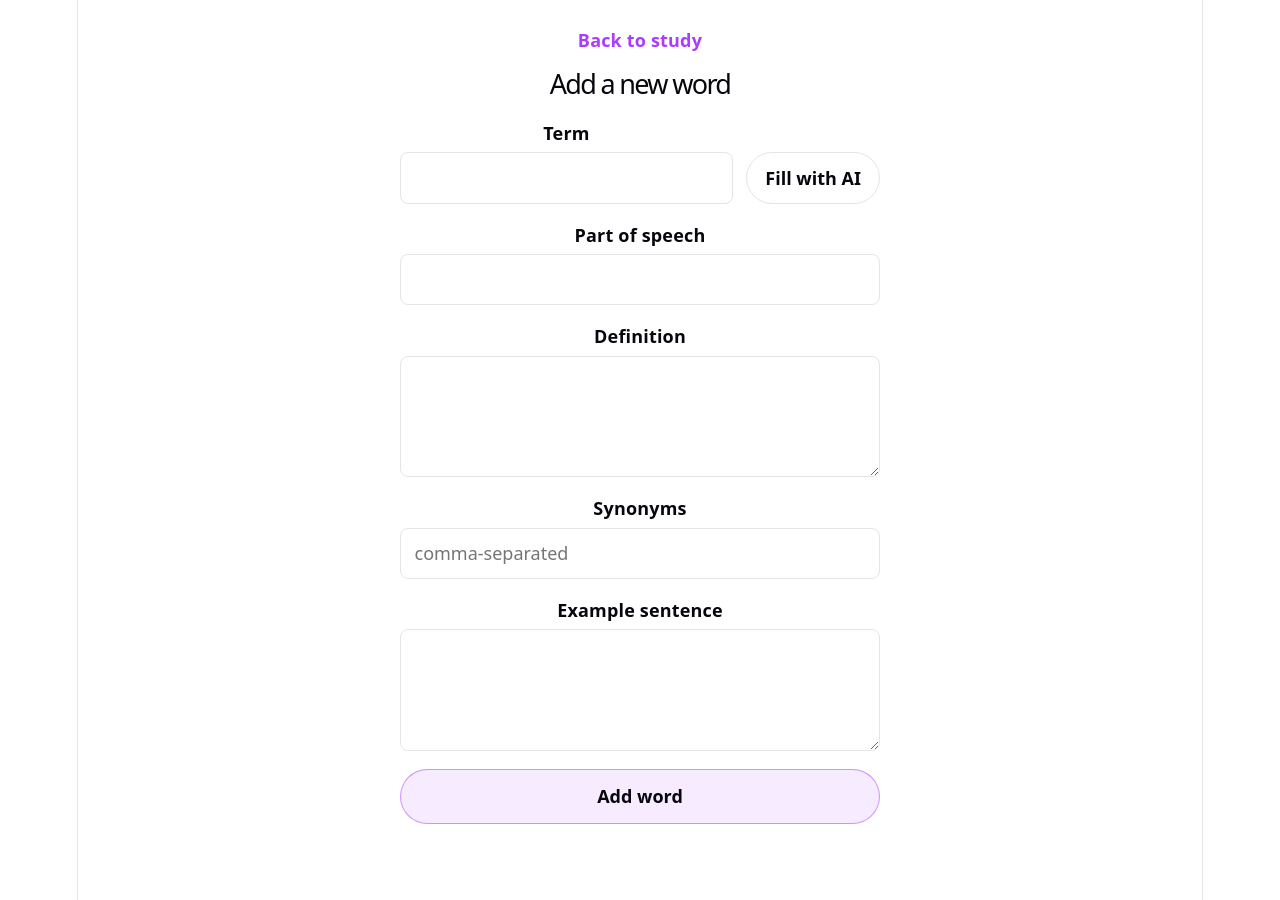
Test: AddWordsPage › creates a word, shows success, and clears the form
Type "ephemeral" into the field labelled "Term" at (566, 178), box [400,152,733,204]
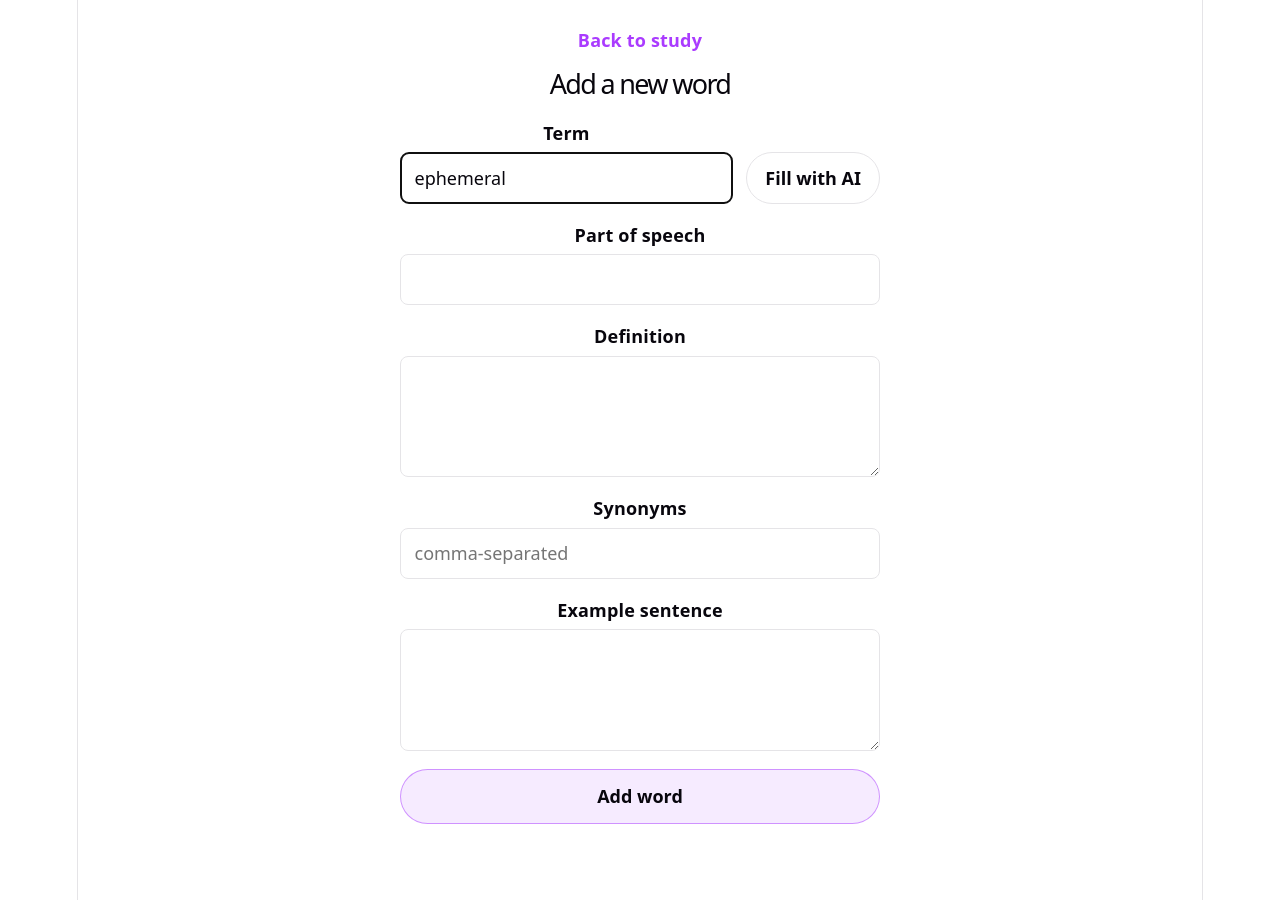
Type "adjective" into the field labelled "Part of speech" at (640, 280), box [400,254,880,305]
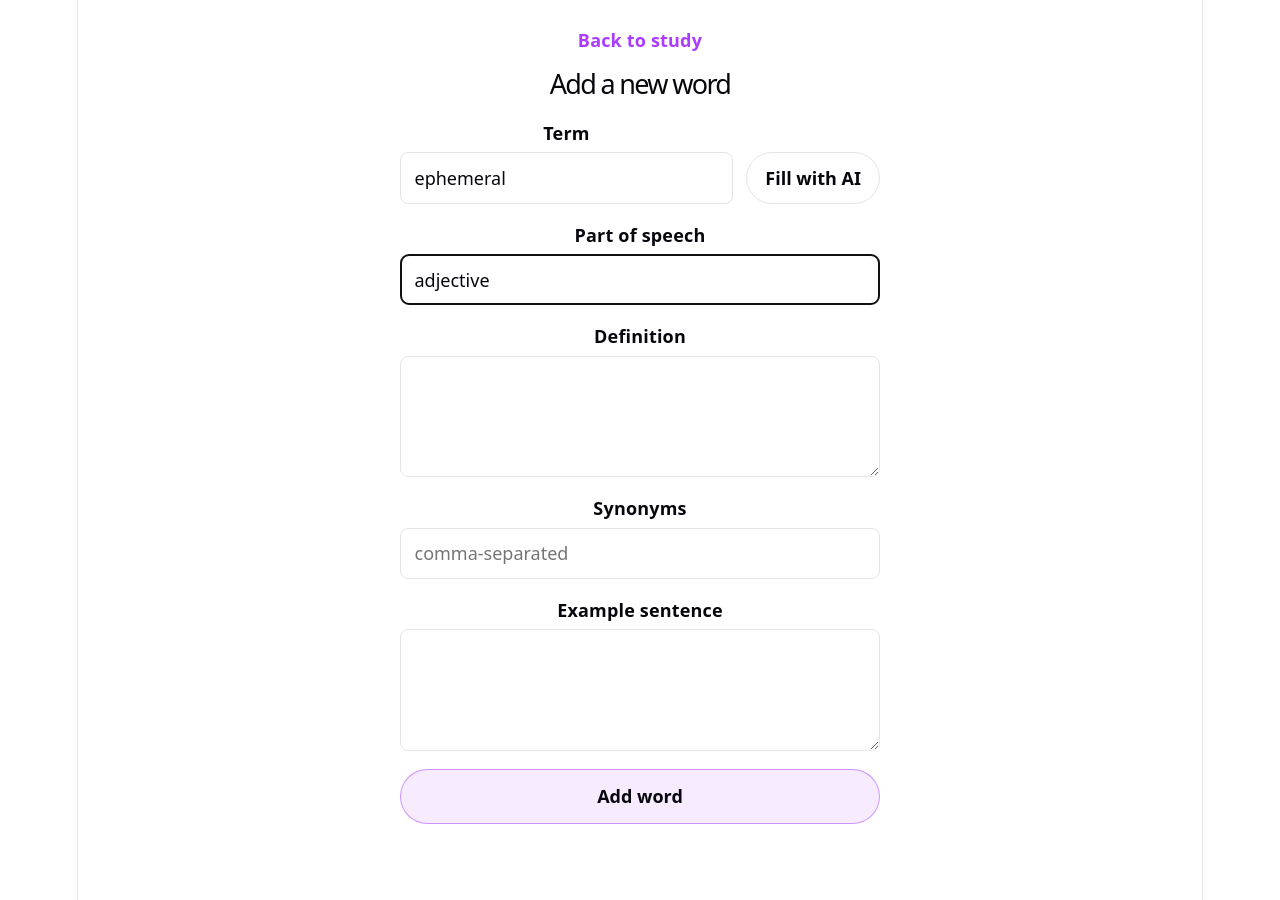
Type "lasting a very short time" into the text box labelled "Definition" at (640, 416), box [400,356,880,477]
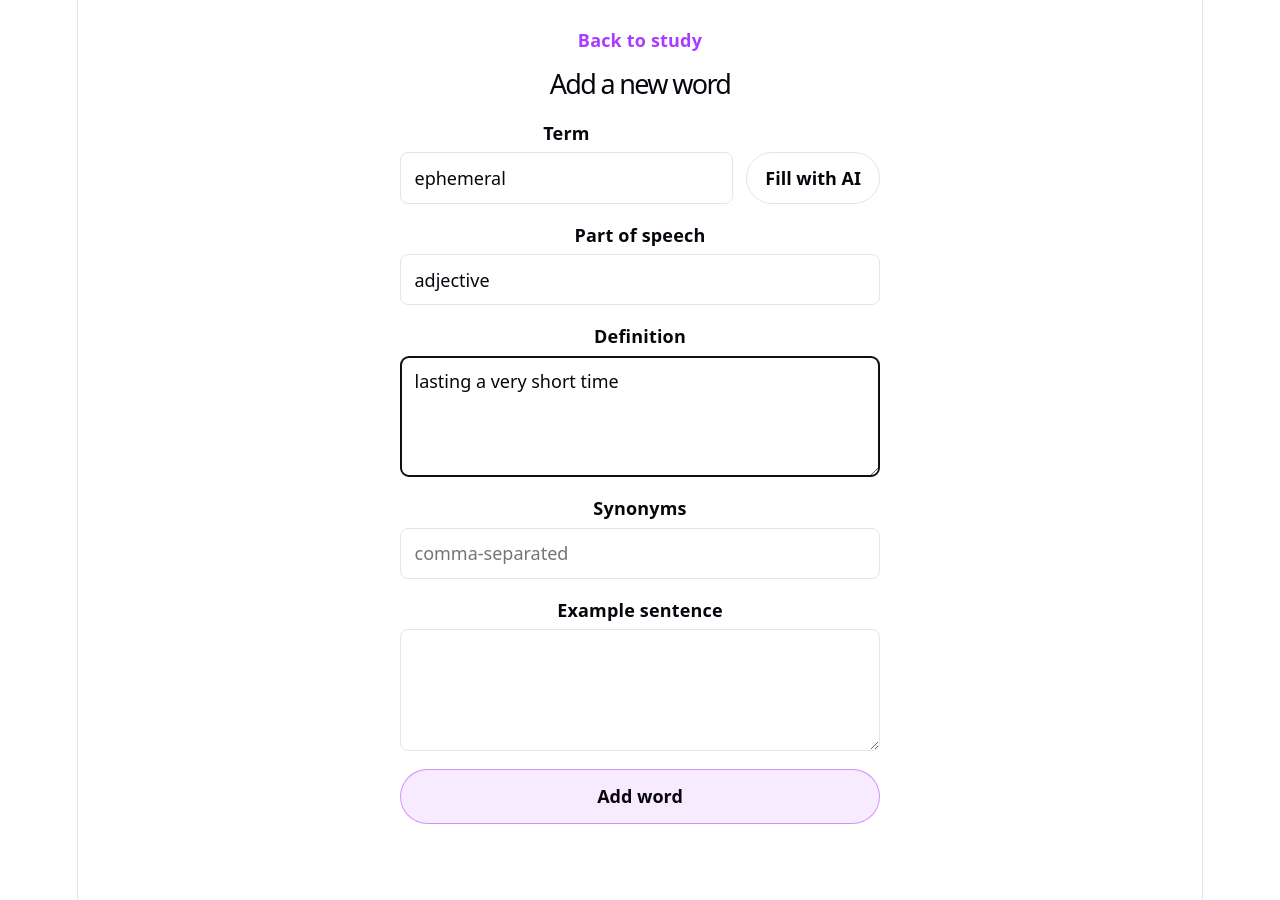
Type "fleeting, transient" into the field labelled "Synonyms" at (640, 553), box [400,528,880,579]
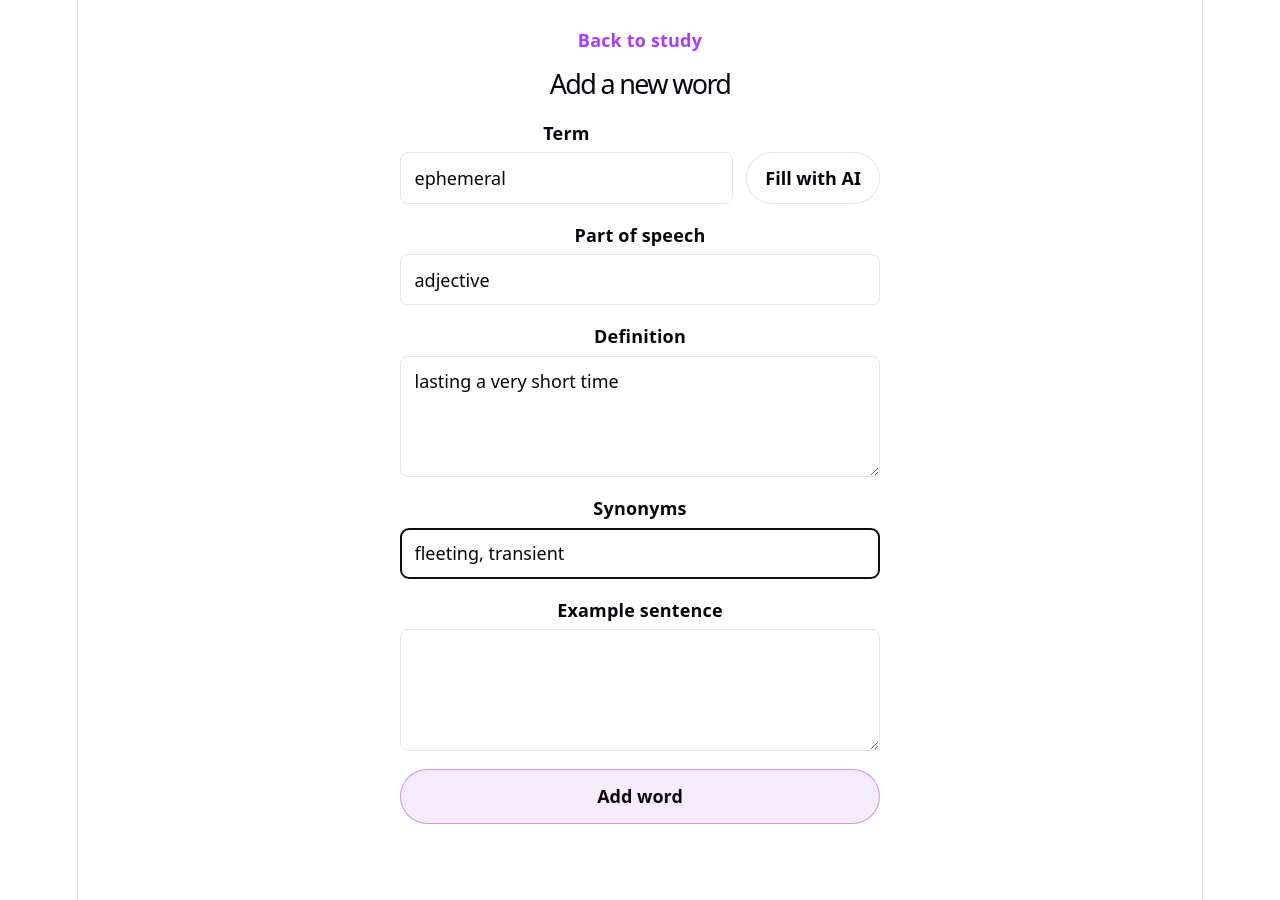
Type "The ephemeral beauty of cherry blossoms draws crowds each spring." into the text box labelled "Example sentence" at (640, 690), box [400,629,880,751]
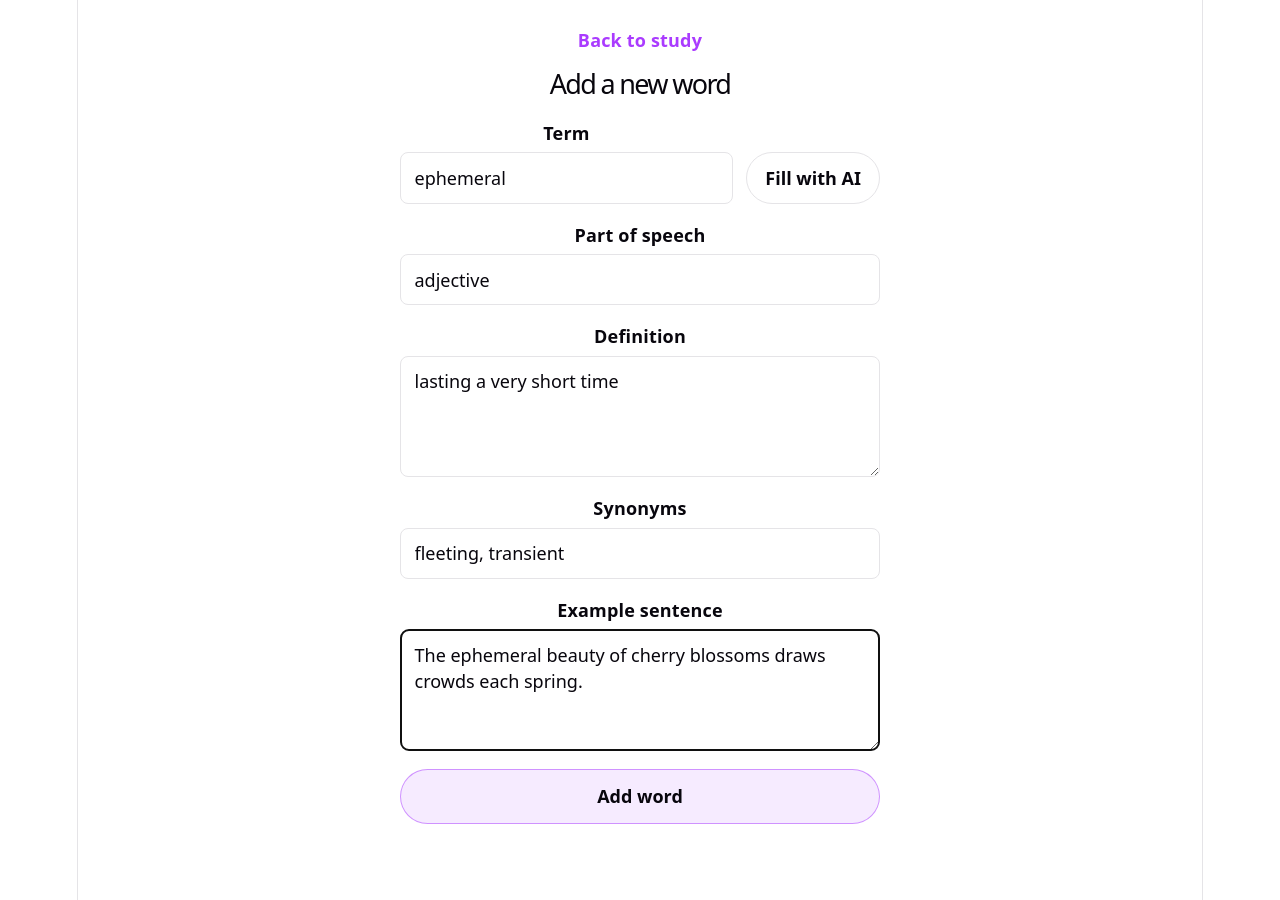
Click the button "Add word" at (640, 796), box [400,769,880,824]
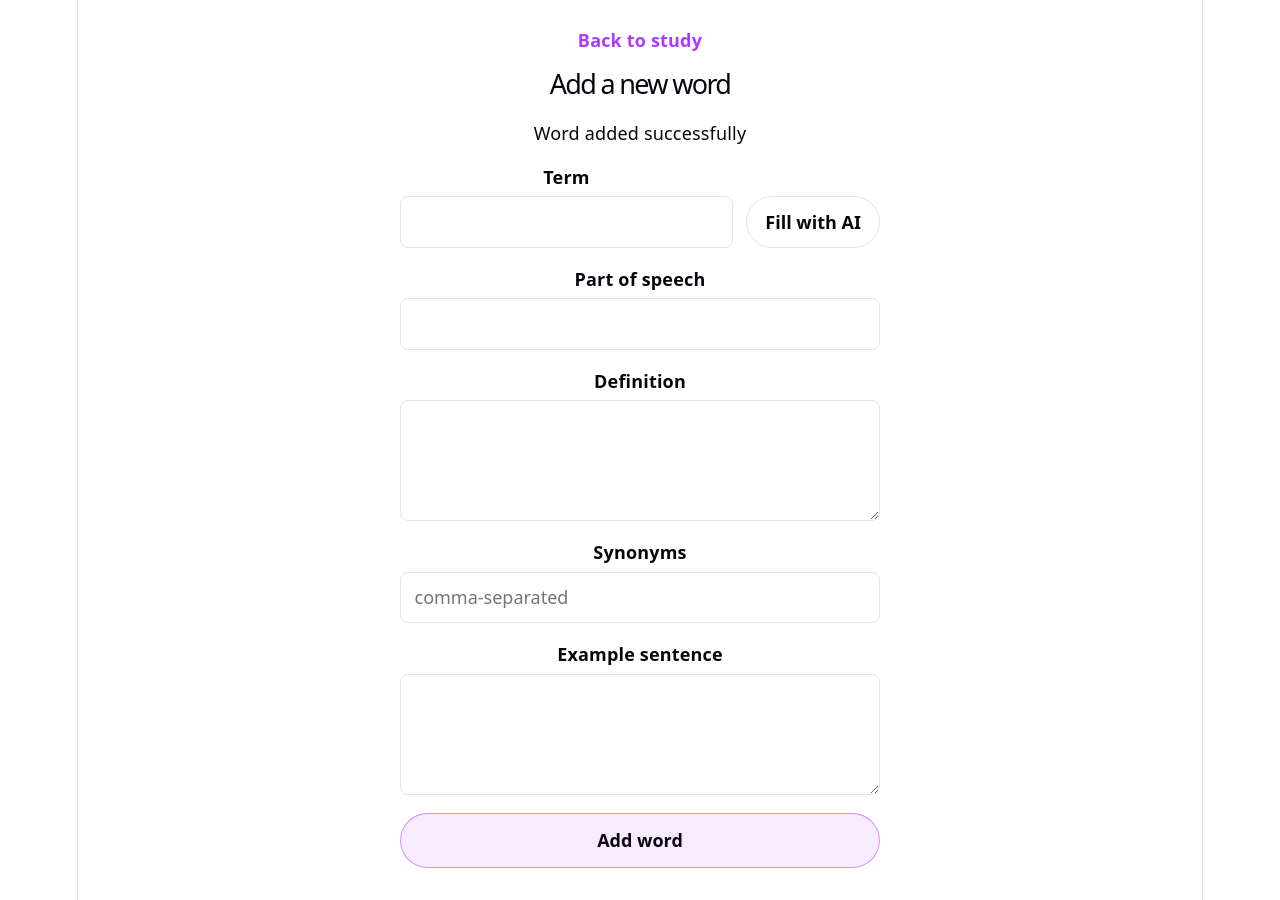
Check: the text "Word added successfully" is shown, box [534,121,746,145]
Check: the field labelled "Term" is empty, box [400,196,733,248]
Check: the field labelled "Part of speech" is empty, box [400,298,880,350]
